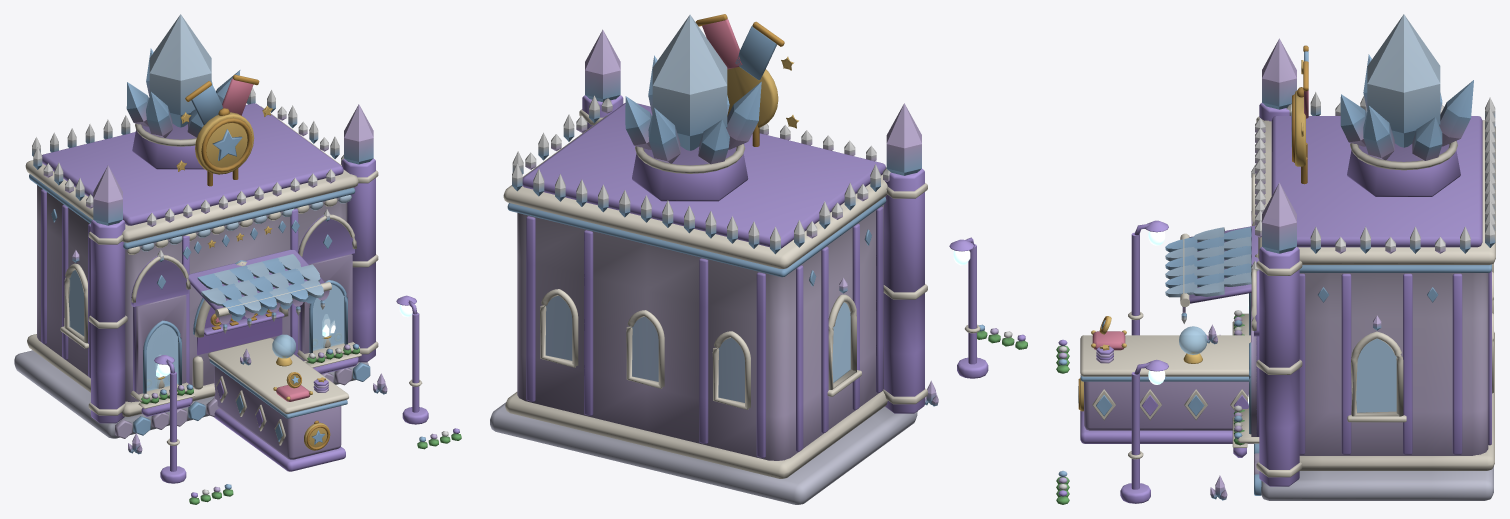
Rendered from token-shop.glb.
The picture shows the model from 3 angles, left to right: view 1: azimuth 30°, elevation 25°; view 2: azimuth 150°, elevation 25°; view 3: azimuth 270°, elevation 25°; orthographic projection. The views are drawn at different scales.
Parts seen in each view (by area): view 1: TOKEN_SHOP__body; view 2: TOKEN_SHOP__body; view 3: TOKEN_SHOP__body.
Part boxes in pixels (x1=…): TOKEN_SHOP__body: x1=14, y1=14, x2=461, y2=504; TOKEN_SHOP__body: x1=490, y1=14, x2=1027, y2=504; TOKEN_SHOP__body: x1=1056, y1=14, x2=1495, y2=504.
Bounding box in the file's own units: 1.66 × 2 × 1.92.
